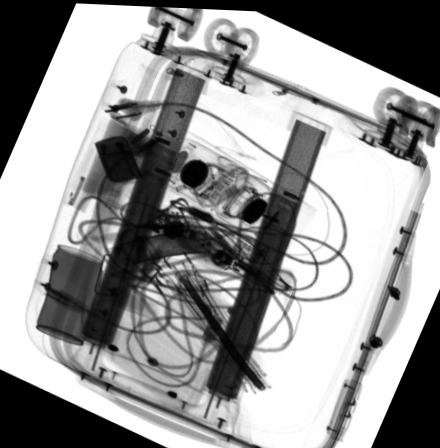Lighter: (93, 134, 142, 182)
